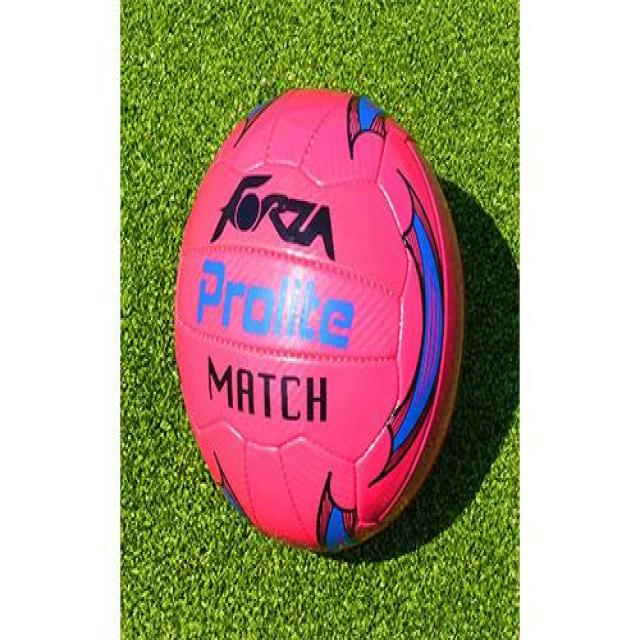Soccer Ball: (177, 88, 466, 552)
